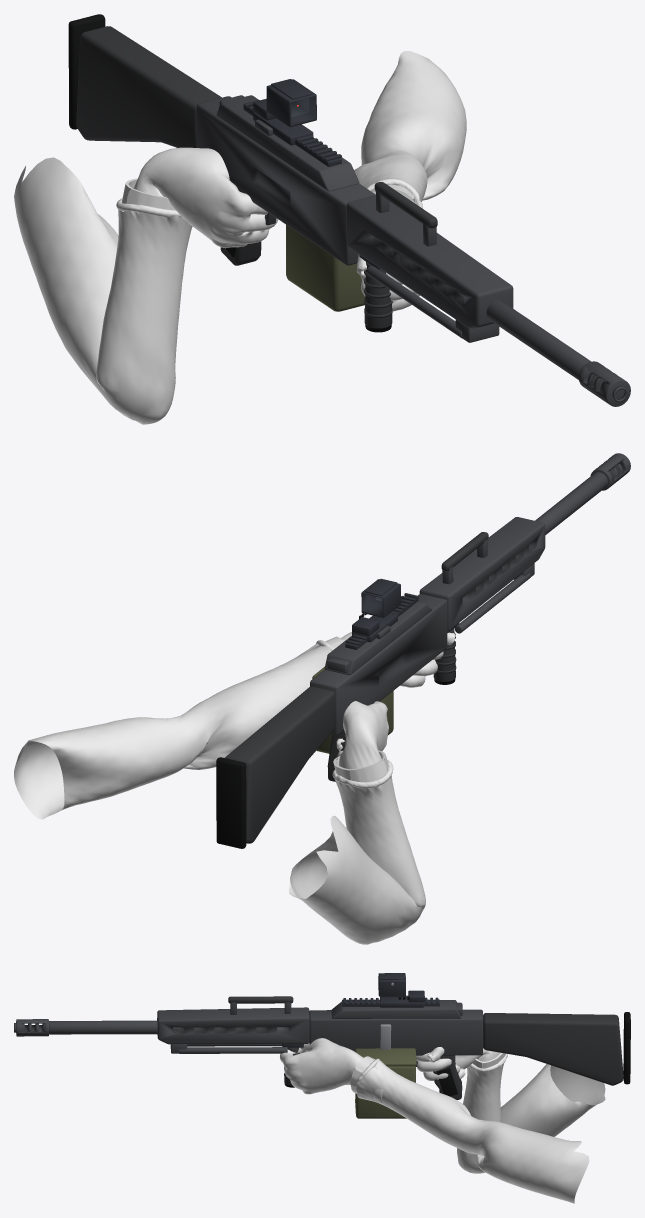
The model's file is FP_bulwark.glb.
3 views of the same model, one above another, from view 1: azimuth 30°, elevation 25°; view 2: azimuth 150°, elevation 25°; view 3: azimuth 270°, elevation 25° (orthographic). The views are drawn at different scales.
Visible parts, largest first — view 1: W_bulwark_Mesh.001, FP_bulwark_Arms; view 2: FP_bulwark_Arms, W_bulwark_Mesh.001; view 3: W_bulwark_Mesh.001, FP_bulwark_Arms.
Part boxes in pixels (x1,y1,x2,y2): W_bulwark_Mesh.001: (68, 14, 630, 406); FP_bulwark_Arms: (14, 51, 466, 424); FP_bulwark_Arms: (14, 632, 455, 944); W_bulwark_Mesh.001: (216, 453, 630, 848); W_bulwark_Mesh.001: (14, 973, 630, 1118); FP_bulwark_Arms: (280, 1038, 605, 1203).
Size of the model in its own units: 0.5493 by 0.4466 by 1.14.
